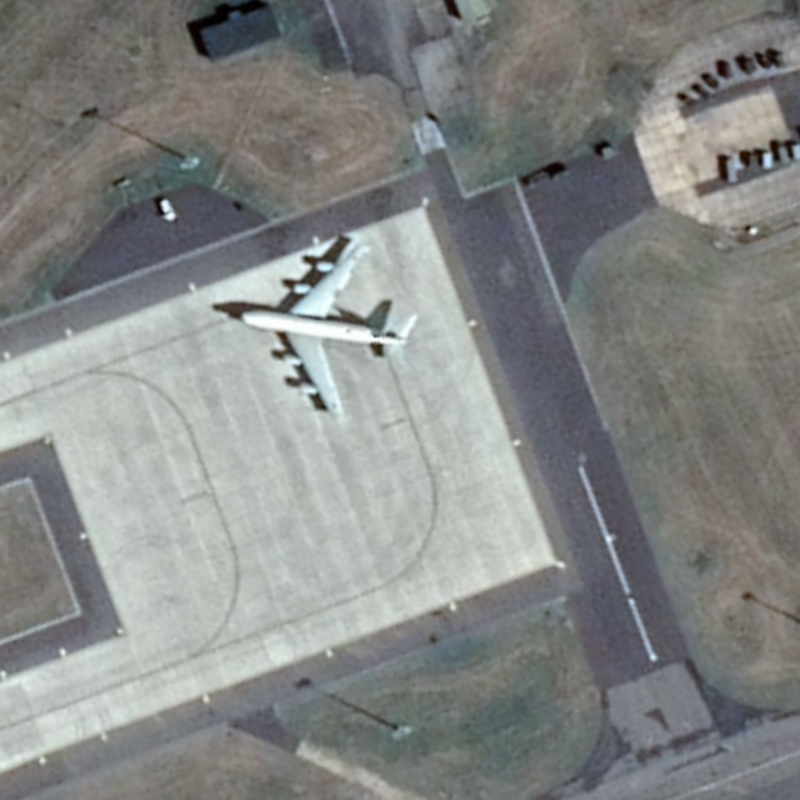A11: (226, 229, 432, 428)
